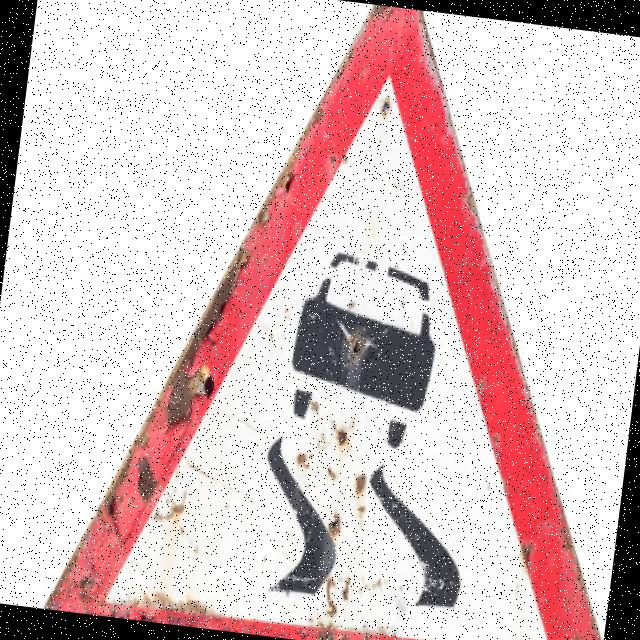road_slippery: (33, 0, 640, 640)
